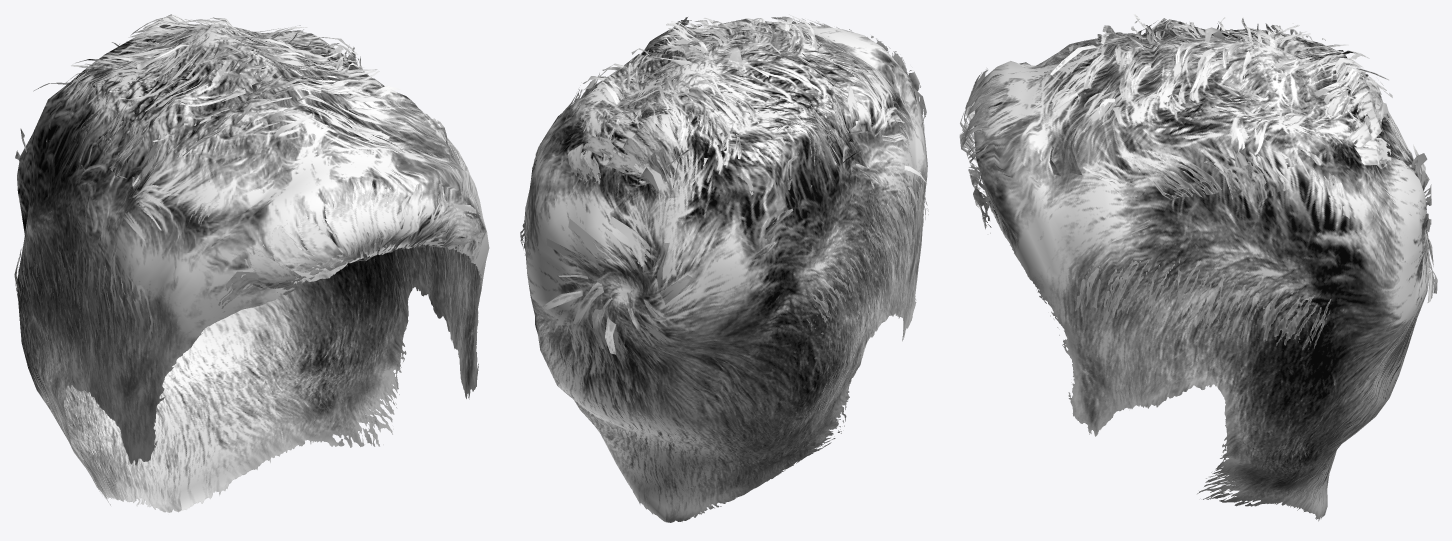
The model's file is spiky.glb.
The picture shows the model from 3 angles, left to right: view 1: azimuth 30°, elevation 25°; view 2: azimuth 150°, elevation 25°; view 3: azimuth 270°, elevation 25°; orthographic projection. The views are drawn at different scales.
Visible parts, largest first — view 1: spiky; view 2: spiky; view 3: spiky.
Boxes of the visible parts, <box> form: spiky: <box>14,14,489,512</box>; spiky: <box>520,14,928,522</box>; spiky: <box>959,14,1437,521</box>.
Size of the model in its own units: 0.1479 by 0.2019 by 0.1794.
1 material, 1 textured.
